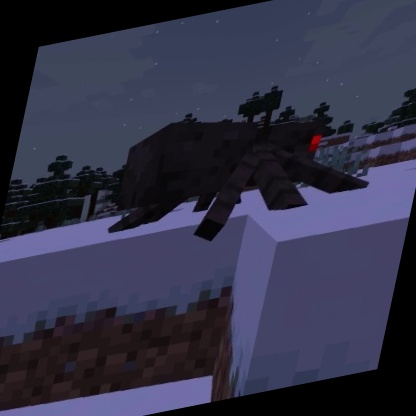spider: (95, 77, 394, 268)
